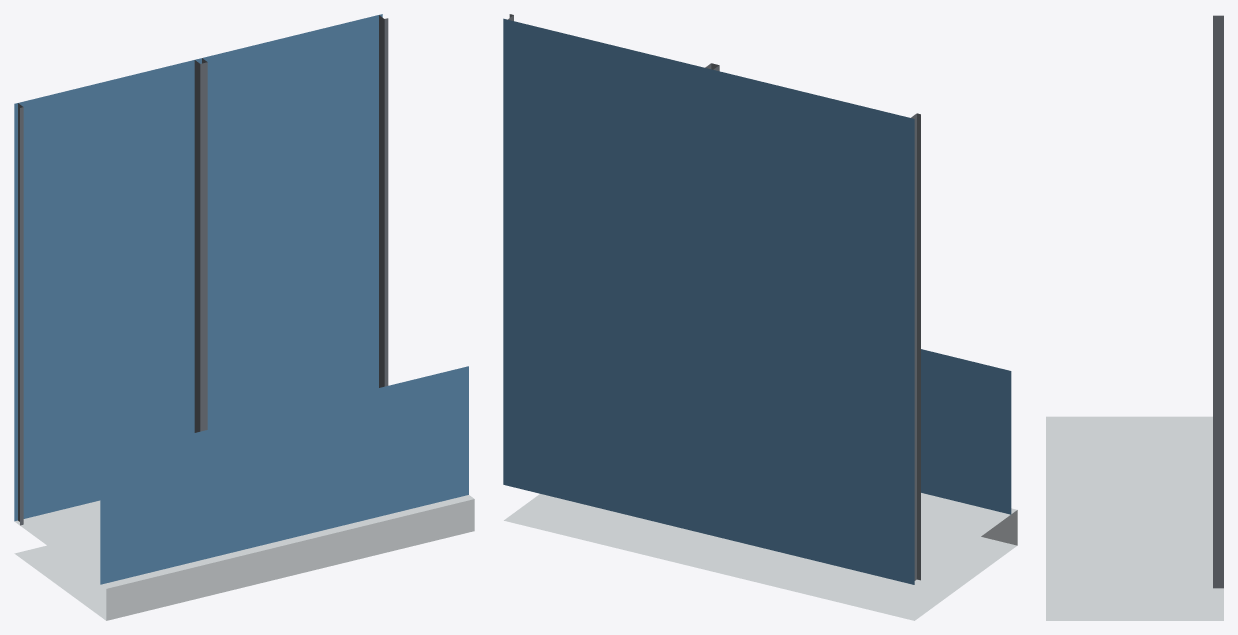
Rendered from mid-w1.fbx.
The picture shows the model from 3 angles, left to right: view 1: azimuth 30°, elevation 25°; view 2: azimuth 150°, elevation 25°; view 3: azimuth 270°, elevation 25°; orthographic projection. The views are drawn at different scales.
Visible parts, largest first — view 1: a2002/800/mid-w1; view 2: a2002/800/mid-w1; view 3: a2002/800/mid-w1.
Boxes of the visible parts, x1,y1,x2,y2 form: a2002/800/mid-w1: [14, 14, 474, 620]; a2002/800/mid-w1: [503, 14, 1017, 620]; a2002/800/mid-w1: [1046, 15, 1223, 620].
Size of the model in its own units: 3 by 3.5 by 1.3.
